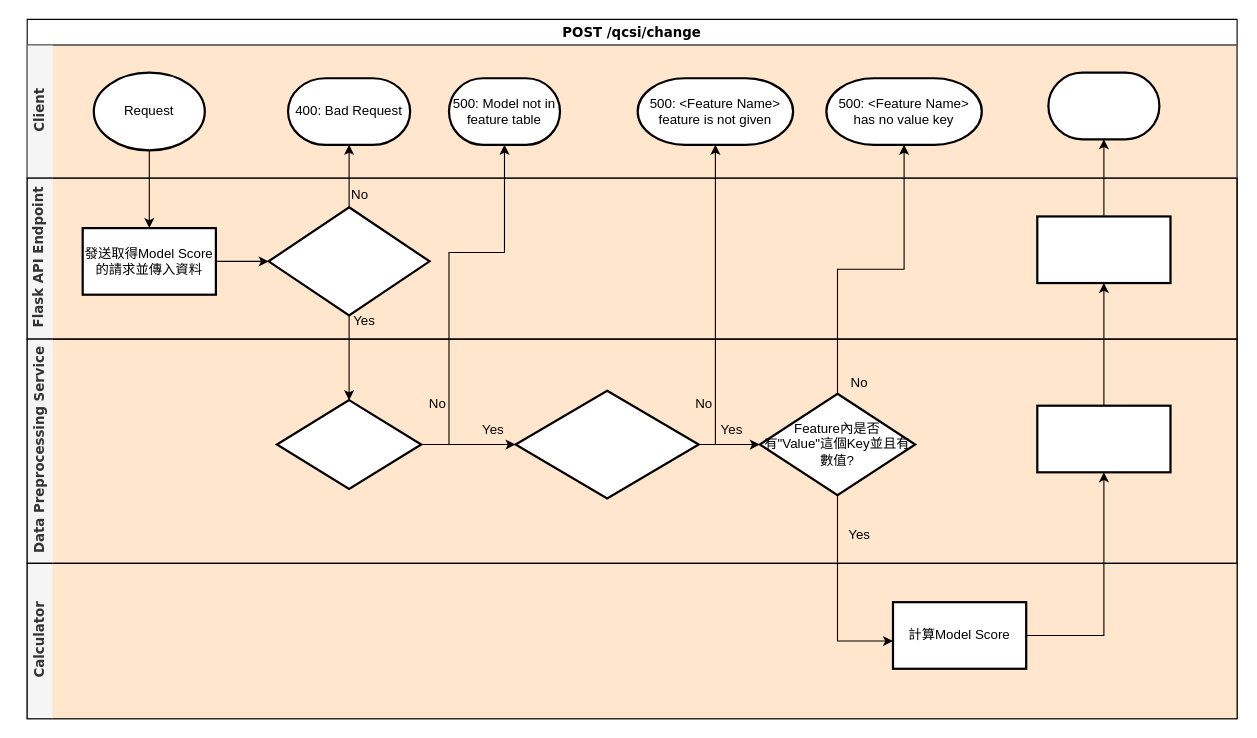
Some shapes in this 1257 by 738 pixel diagram are drawn without their labels. Here are the shapes that lost their labels. From the top down, the centre of each, then its label:
At pixel 1103 105: "200: Response".
At pixel 348 261: "是否有傳入資料 (Request Body是否 不為空)".
At pixel 1103 249: "回傳結果與本次使用的數據".
At pixel 348 444: "該Model有在 Feature Table中?".
At pixel 606 444: "Model所需要的Feature 是否都有在資料中?".
At pixel 1103 438: "將結果與本次使用的數據回傳".
